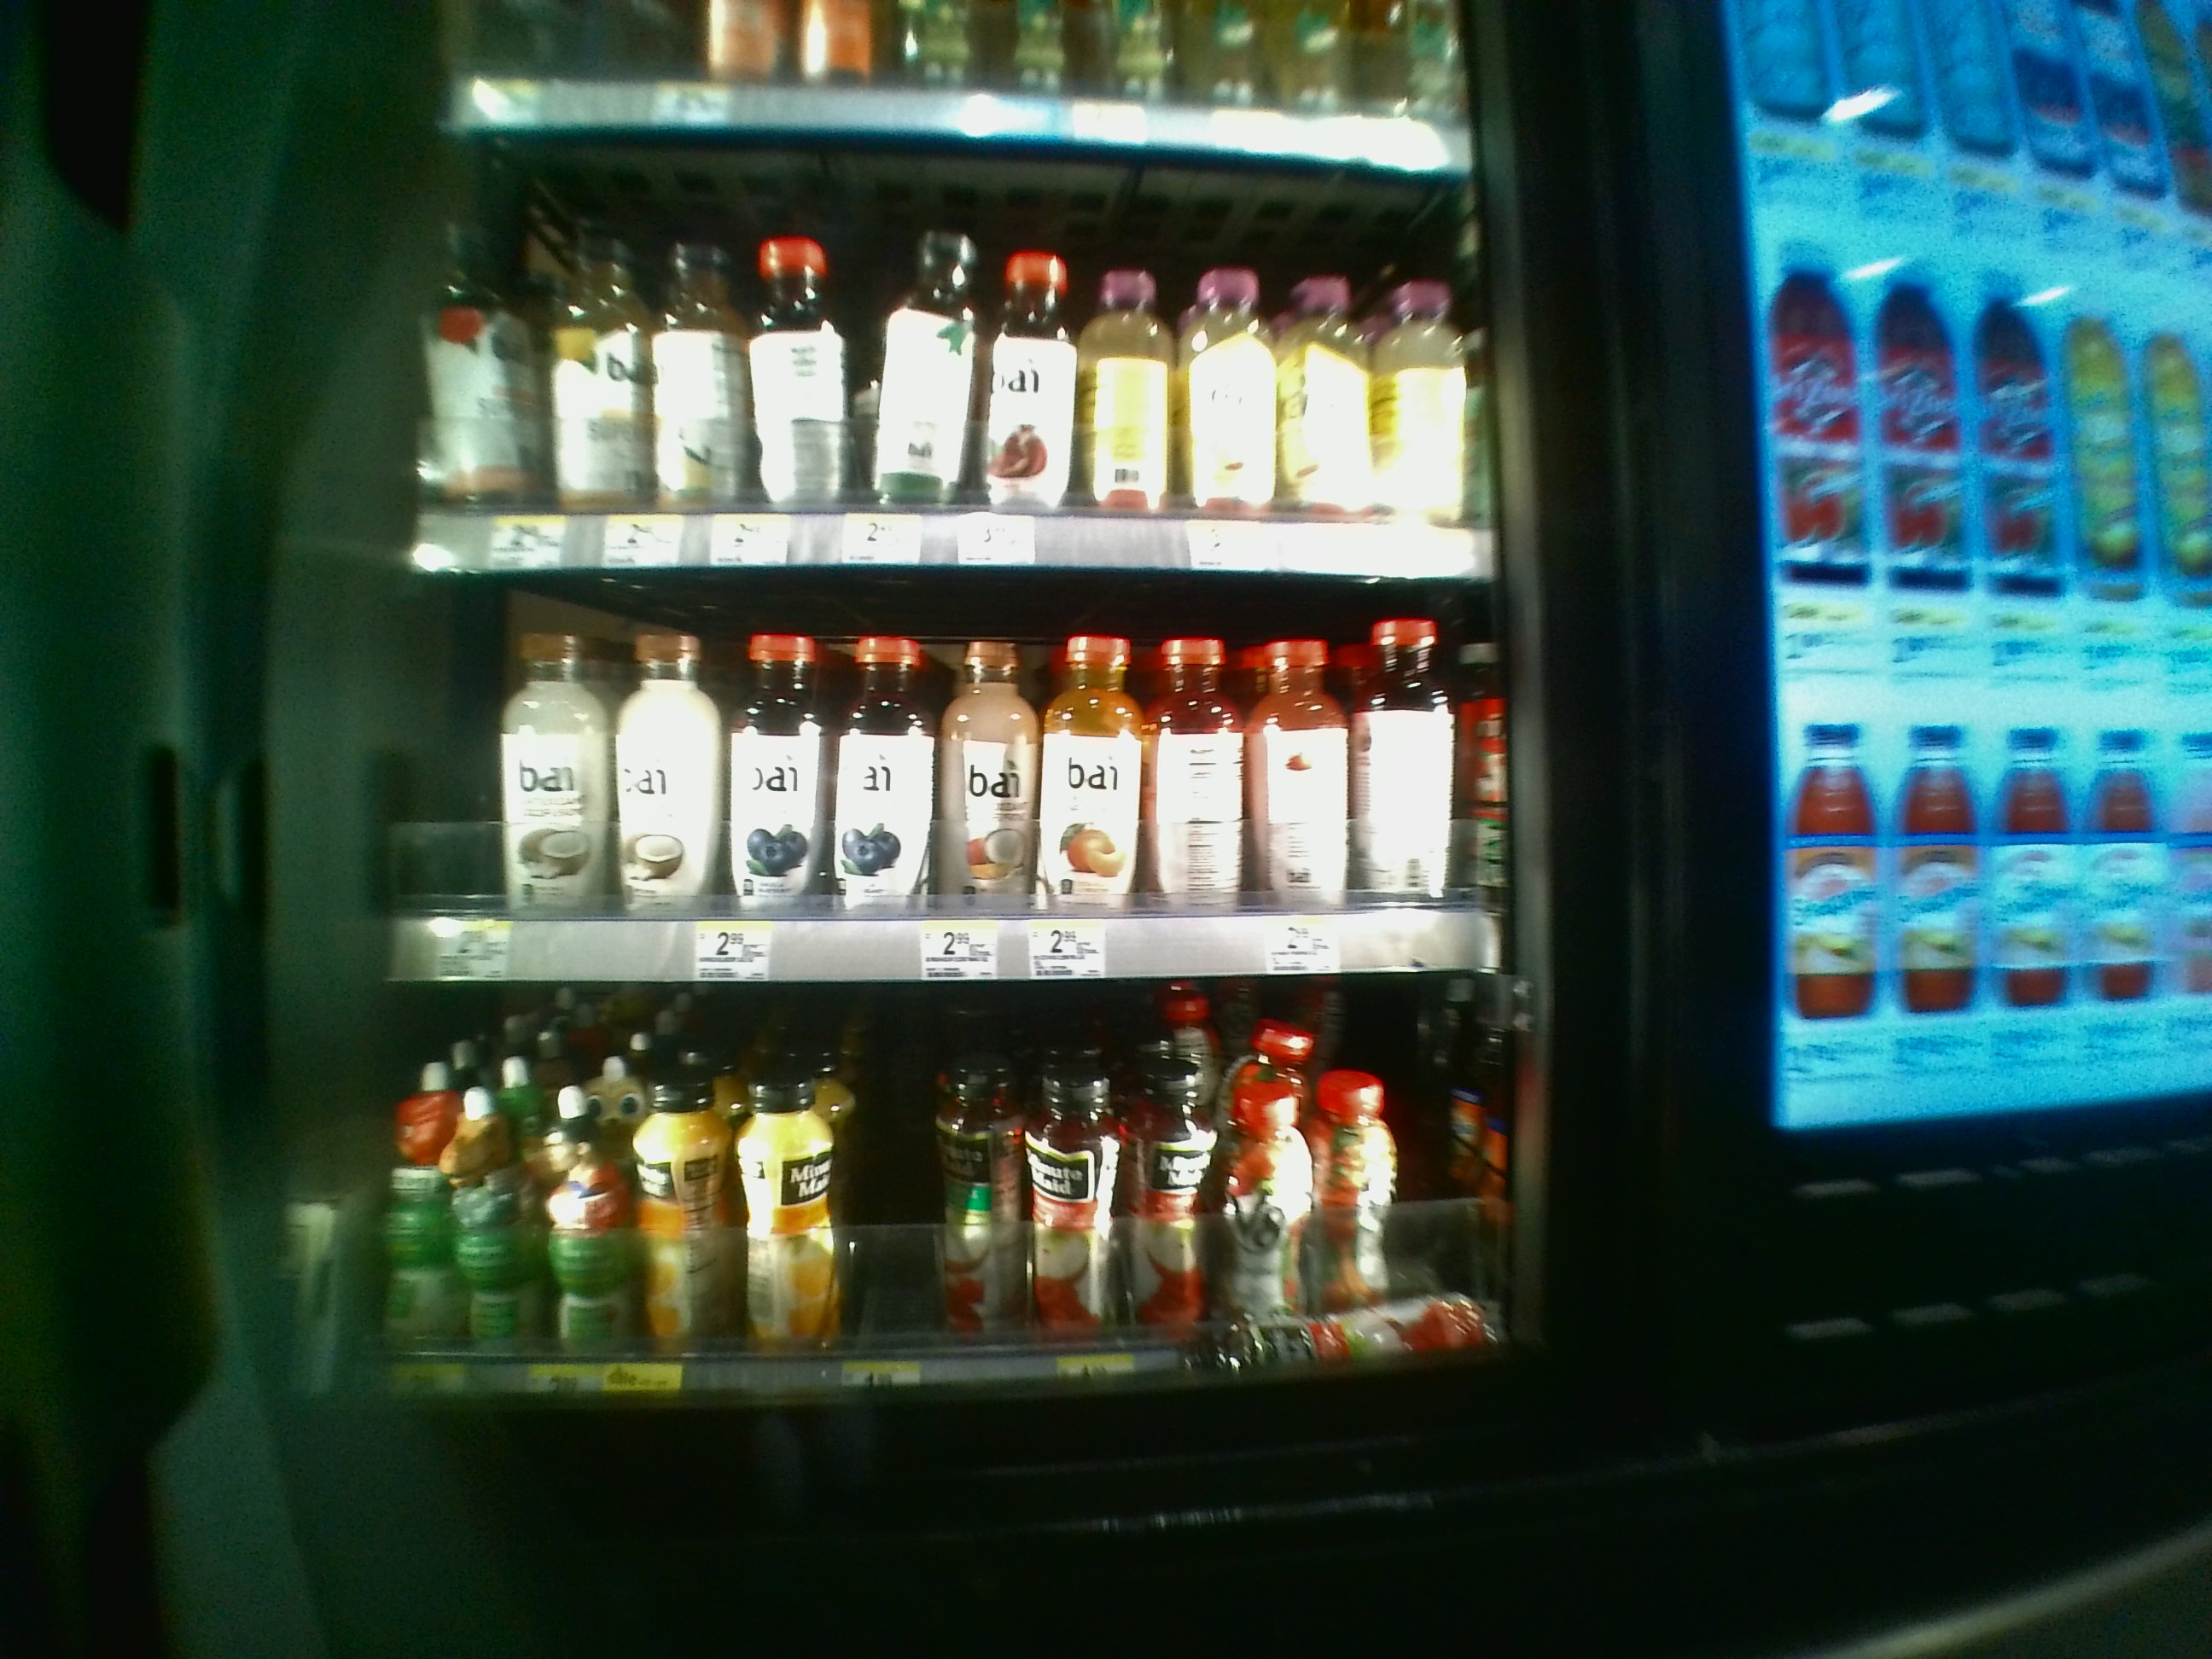shelf: (392, 967, 1536, 1389), (416, 131, 1498, 575), (394, 572, 1510, 967)
